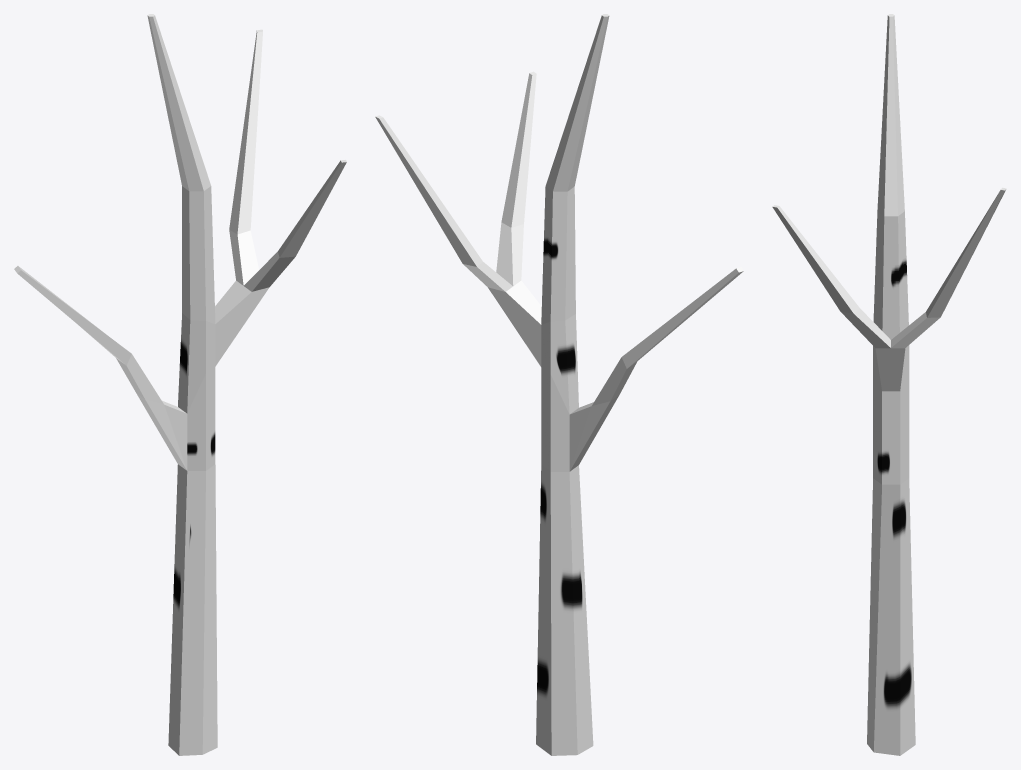
Rendered from birch03__mesh_LOD.fbx.
The picture shows the model from 3 angles, left to right: view 1: azimuth 30°, elevation 25°; view 2: azimuth 150°, elevation 25°; view 3: azimuth 270°, elevation 25°; orthographic projection. The views are drawn at different scales.
Parts seen in each view (by area): view 1: birch03__mesh_LOD0; view 2: birch03__mesh_LOD0; view 3: birch03__mesh_LOD0.
Boxes of the visible parts, x1=… form: birch03__mesh_LOD0: x1=14, y1=14, x2=346, y2=755; birch03__mesh_LOD0: x1=375, y1=14, x2=743, y2=755; birch03__mesh_LOD0: x1=772, y1=14, x2=1006, y2=755.
Size of what is drawn, in the model's own units: 1882 by 4337 by 1298.
1 material, 1 textured.
